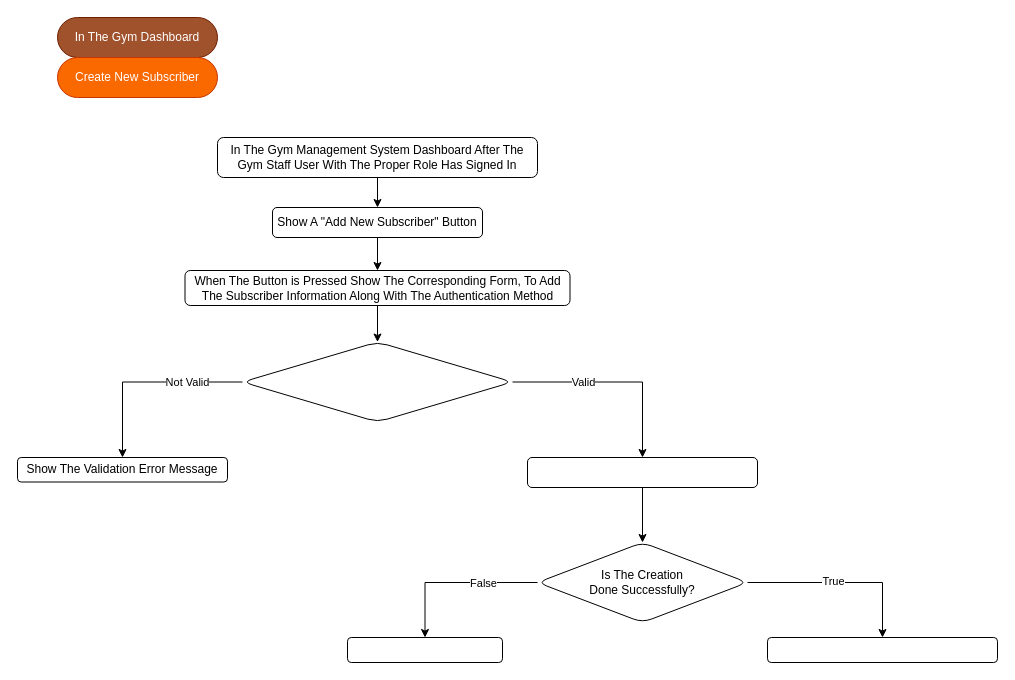
Image size: 1015x680. Some labels were removed from this diagram. Each missing label, with the centre of its shape:
After All The Information Has Been Entered Down And The Form Is Valid: pixel 377 381
Navigate The User To The Proper Page: pixel 882 649
Show The Error Message: pixel 424 649
Try To Create A New Subscriber Account: pixel 642 472
